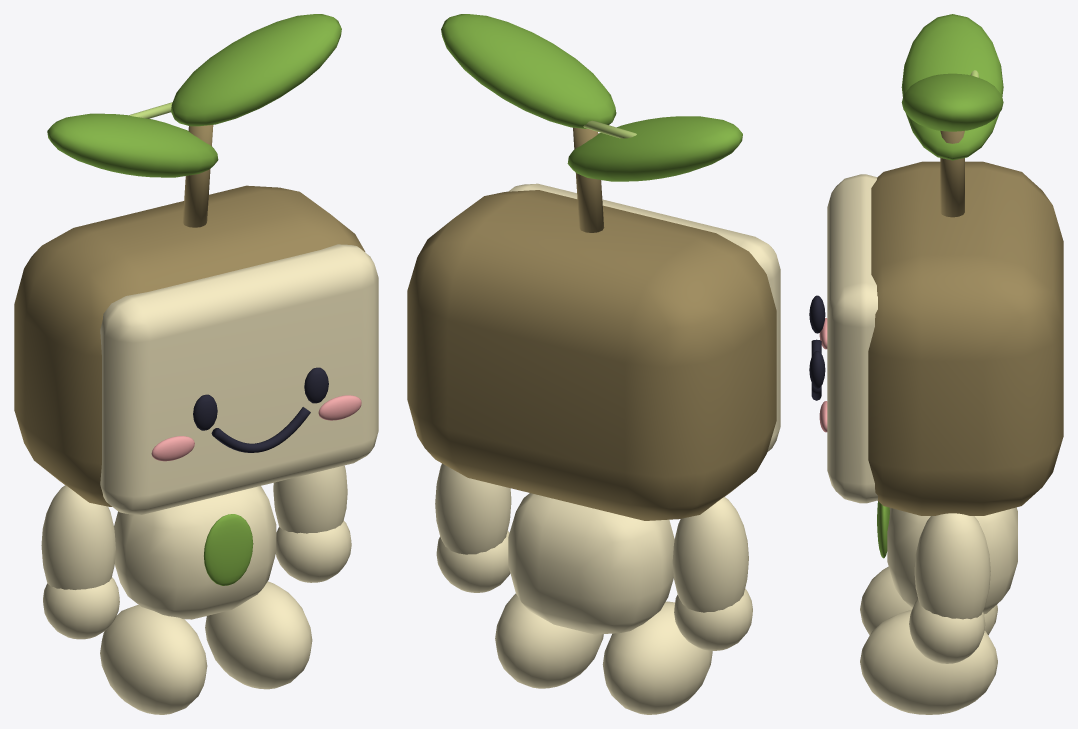
Rendered from seedy.glb.
The picture shows the model from 3 angles, left to right: view 1: azimuth 30°, elevation 25°; view 2: azimuth 150°, elevation 25°; view 3: azimuth 270°, elevation 25°; orthographic projection. The views are drawn at different scales.
Parts seen in each view (by area): view 1: seedy_Head_Mesh, seedy_Sprout_Mesh, seedy_Pet_Mesh, seedy_LeftArm_Mesh, Foot.008, Foot.009, seedy_RightArm_Mesh, seedy_Face_Mesh, seedy_Face_Mouth, seedy_Face_RightEyeMesh, seedy_Face_LeftEyeMesh; view 2: seedy_Head_Mesh, seedy_Sprout_Mesh, seedy_Pet_Mesh, seedy_LeftArm_Mesh, seedy_RightArm_Mesh, Foot.008, Foot.009; view 3: seedy_Head_Mesh, seedy_Sprout_Mesh, seedy_RightArm_Mesh, Foot.009, seedy_Pet_Mesh, Foot.008, seedy_Face_LeftEyeMesh, seedy_Face_RightEyeMesh, seedy_Face_Mesh.
Part boxes in pixels (x1,y1,x2,y2): seedy_Head_Mesh: (14, 185, 378, 514); seedy_Sprout_Mesh: (47, 14, 341, 227); seedy_Pet_Mesh: (114, 486, 276, 619); seedy_LeftArm_Mesh: (41, 485, 119, 639); Foot.008: (100, 605, 207, 714); Foot.009: (205, 581, 312, 689); seedy_RightArm_Mesh: (273, 465, 351, 582); seedy_Face_Mesh: (151, 395, 361, 461); seedy_Face_Mouth: (211, 407, 310, 452); seedy_Face_RightEyeMesh: (304, 367, 328, 403); seedy_Face_LeftEyeMesh: (193, 394, 217, 430); seedy_Head_Mesh: (407, 183, 780, 520); seedy_Sprout_Mesh: (441, 14, 742, 232); seedy_Pet_Mesh: (508, 493, 674, 634); seedy_LeftArm_Mesh: (672, 497, 752, 650); seedy_RightArm_Mesh: (435, 463, 511, 592); Foot.008: (602, 601, 712, 714); Foot.009: (495, 593, 603, 688); seedy_Head_Mesh: (827, 161, 1063, 515); seedy_Sprout_Mesh: (901, 14, 1003, 217); seedy_RightArm_Mesh: (909, 513, 990, 663); Foot.009: (860, 610, 997, 714); seedy_Pet_Mesh: (877, 501, 1017, 614); Foot.008: (860, 566, 997, 635); seedy_Face_LeftEyeMesh: (809, 295, 825, 333); seedy_Face_RightEyeMesh: (809, 351, 825, 388); seedy_Face_Mesh: (819, 318, 827, 432).
Size of the model in its own units: 1 by 1.97 by 0.699.
